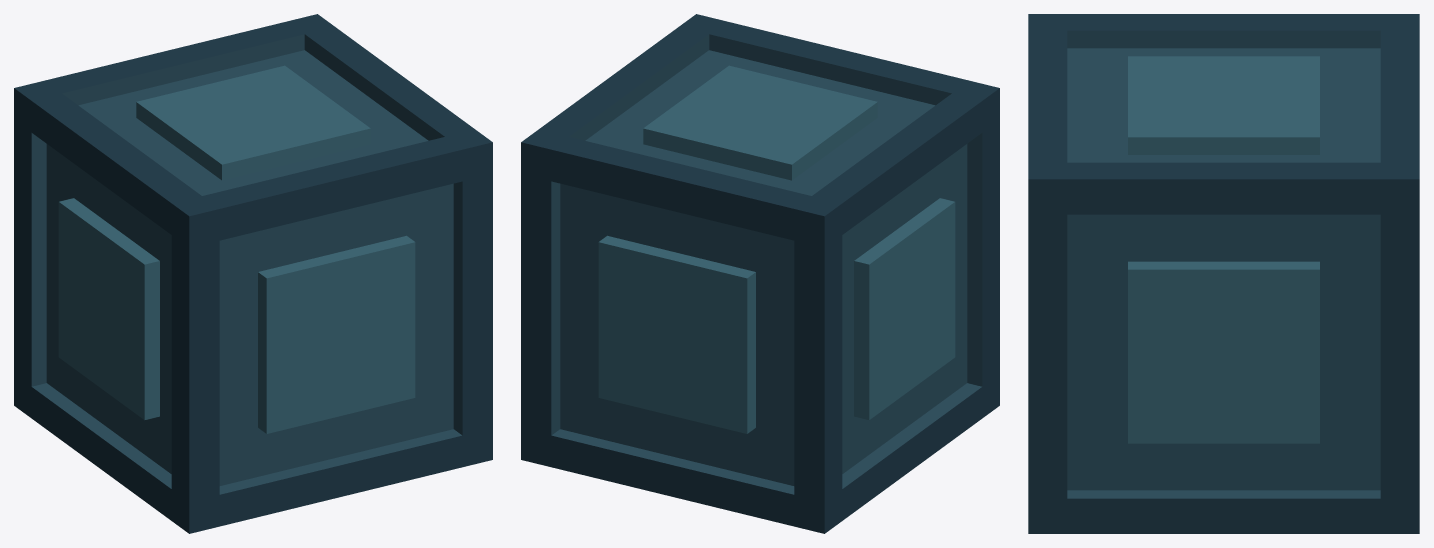
The model's file is Field_Cube_wall.glb.
3 renders of one model, left to right at view 1: azimuth 30°, elevation 25°; view 2: azimuth 150°, elevation 25°; view 3: azimuth 270°, elevation 25°, orthographic. The views are drawn at different scales.
Parts seen in each view (by area): view 1: Cube_Outer, Cube_Center; view 2: Cube_Outer, Cube_Center; view 3: Cube_Outer, Cube_Center.
Part boxes in pixels (x1=…): Cube_Outer: x1=14, y1=14, x2=492, y2=533; Cube_Center: x1=58, y1=65, x2=415, y2=433; Cube_Outer: x1=521, y1=14, x2=999, y2=533; Cube_Center: x1=598, y1=65, x2=955, y2=433; Cube_Outer: x1=1028, y1=14, x2=1419, y2=533; Cube_Center: x1=1128, y1=56, x2=1319, y2=443.
Bounding box in the file's own units: 2 × 2 × 2.
